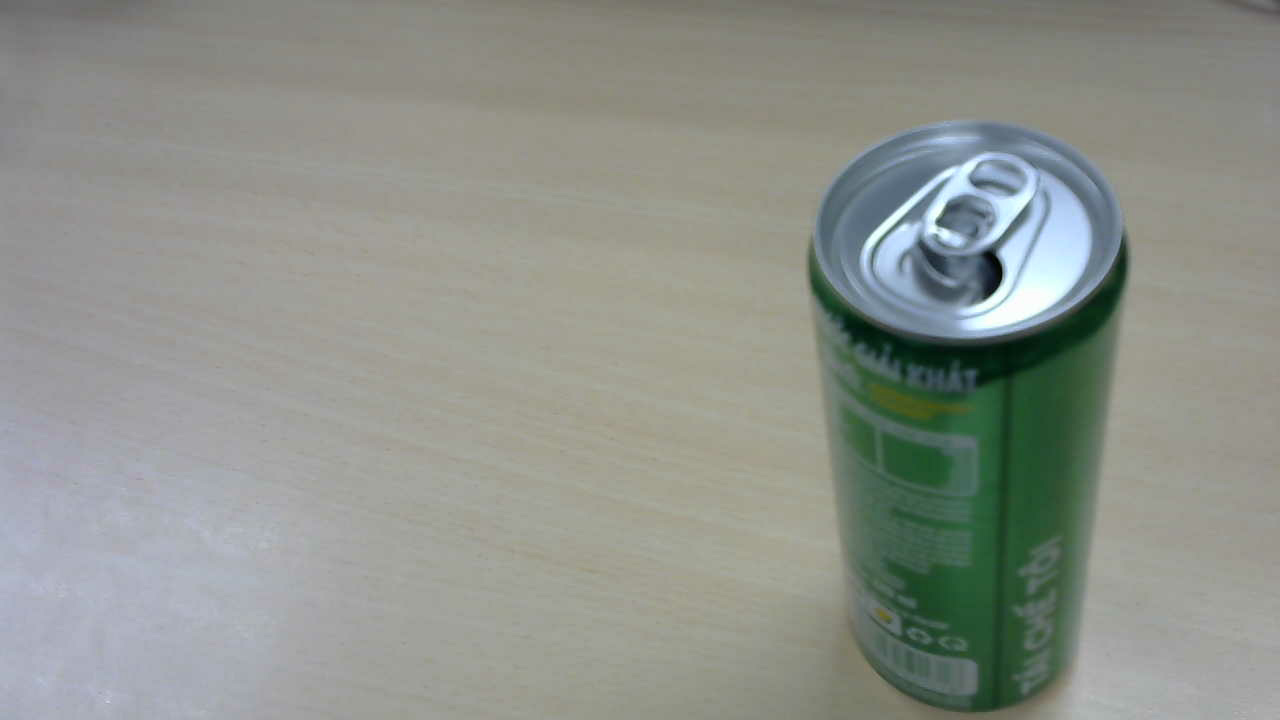Sprite: (813, 128, 1138, 699)
